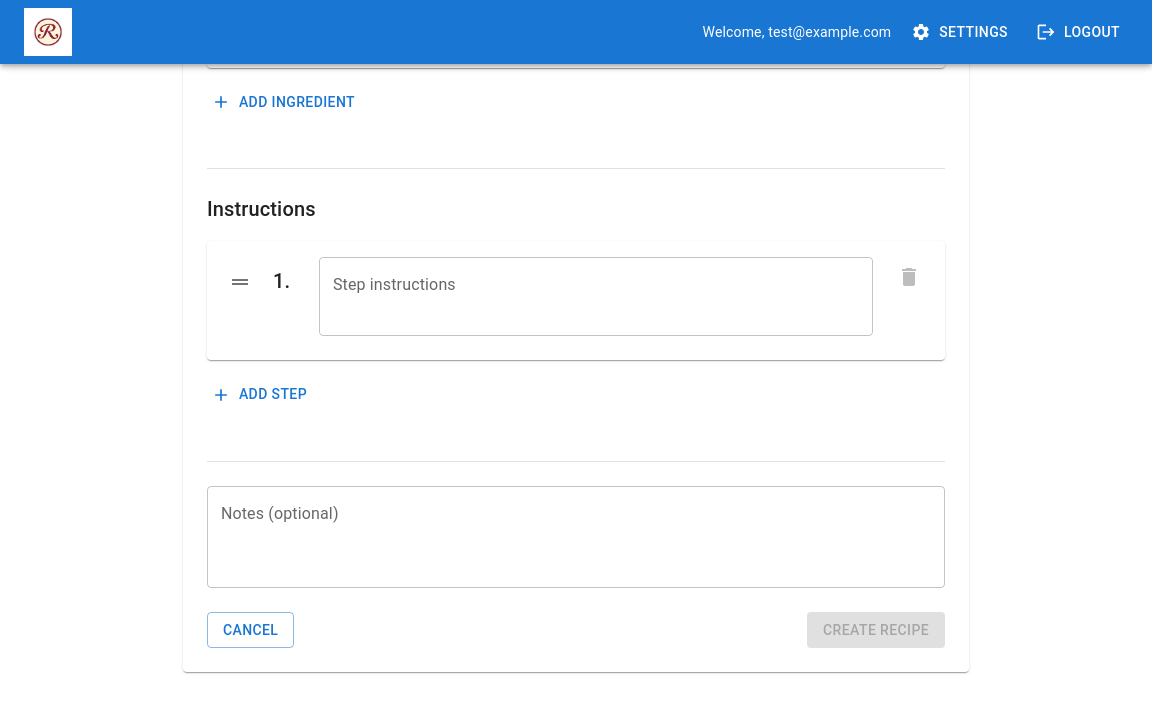
Test: RecipeEditPage › Drag and drop functionality › step numbers are sequential after adding steps
This screenshot has width=1152, height=720.
(page scrolled)
# Add 4 more steps
Click the button "Add Step". click: [261, 395]
box: [207,376,315,413]
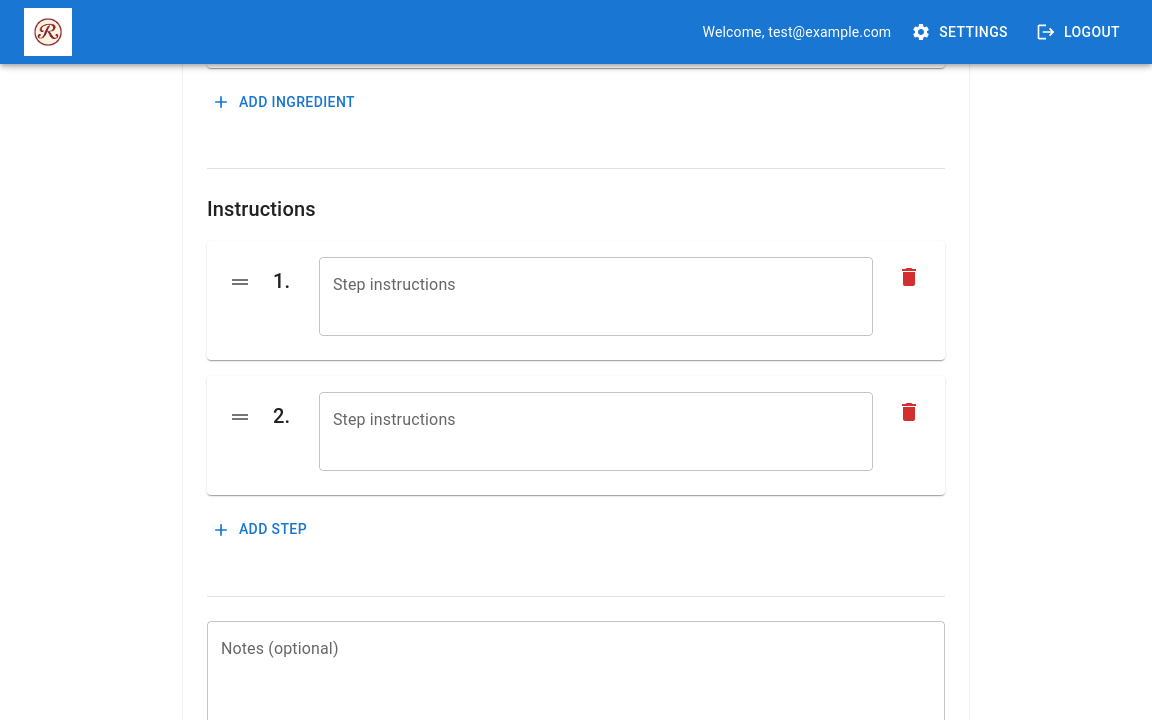
Click the button "Add Step". click: [261, 530]
box: [207,511,315,548]
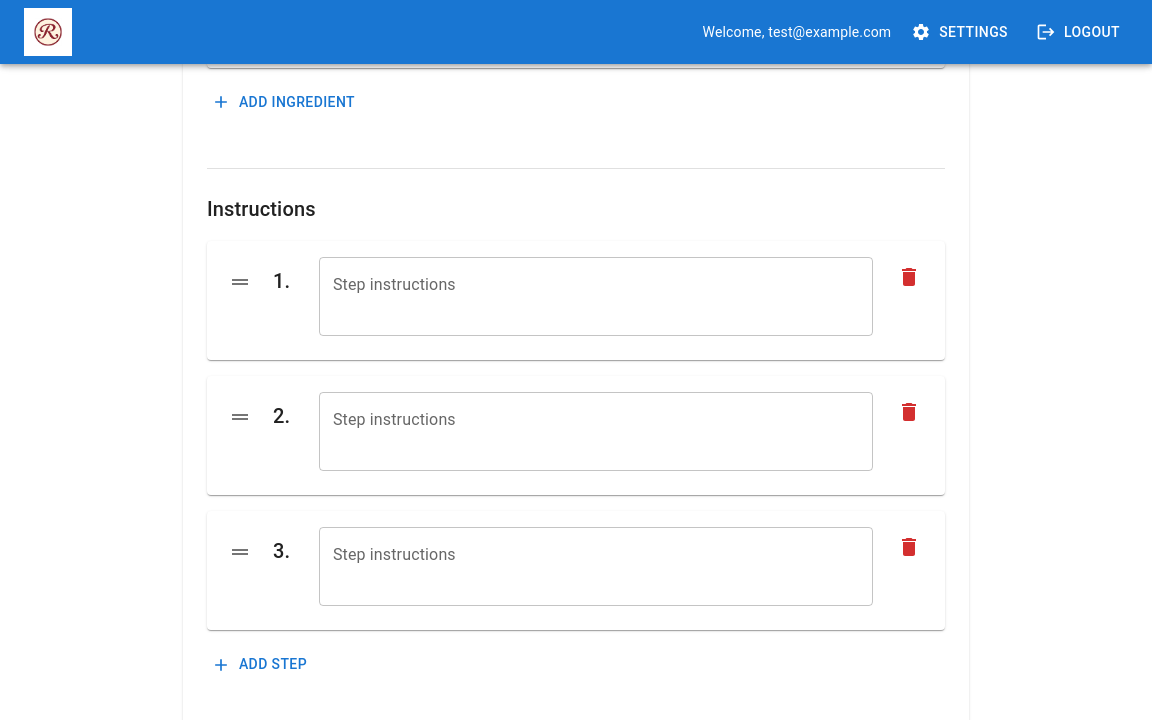
Click the button "Add Step". click: [261, 665]
box: [207,646,315,683]
(page scrolled)
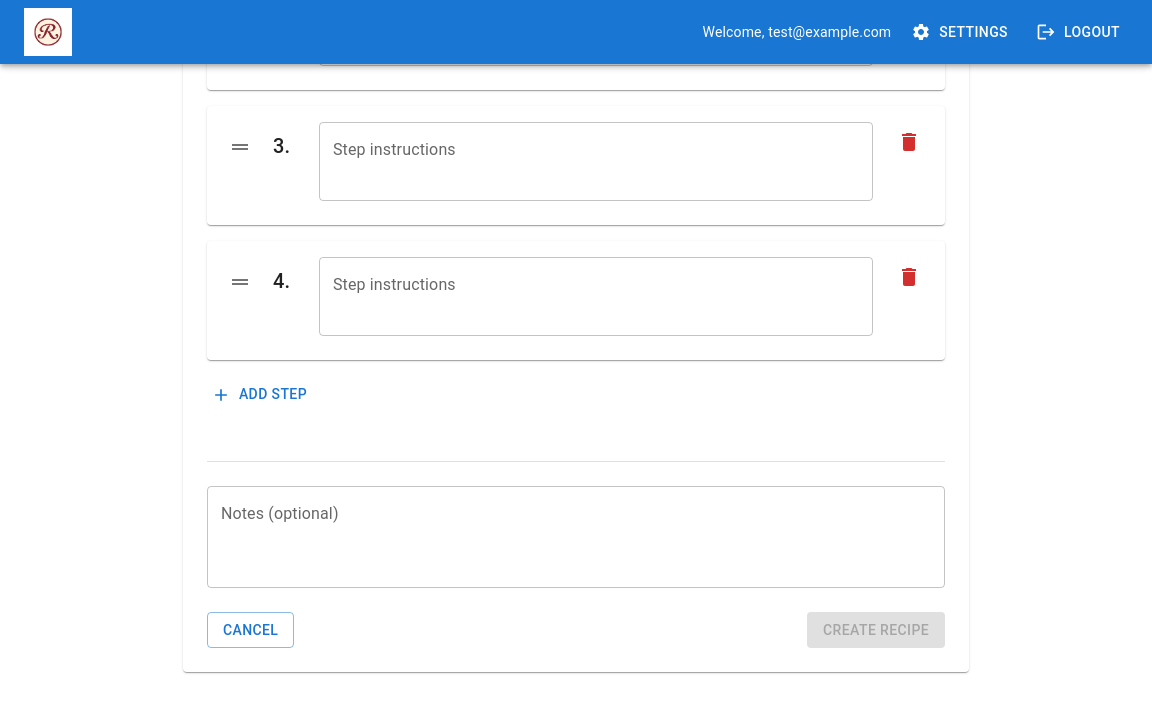
Click the button "Add Step". click: [261, 395]
box: [207,376,315,413]
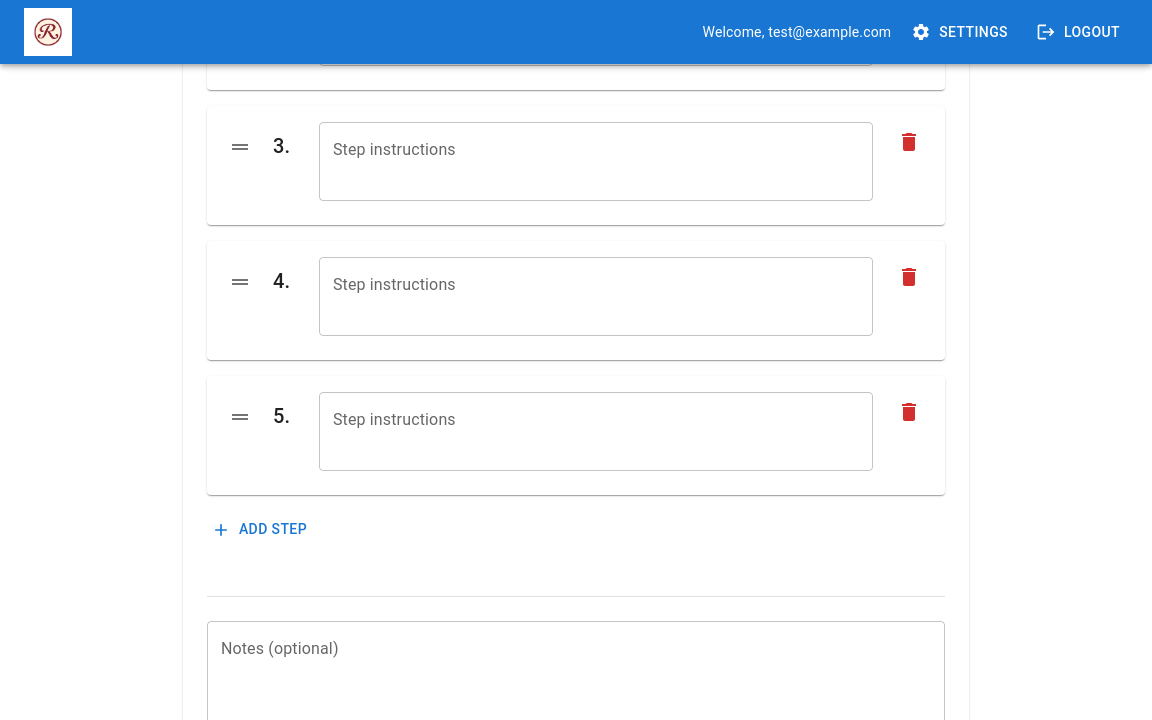
Expected: the heading "3." is shown, [273,134,290,158]
Expected: the heading "4." is shown, [273,269,290,293]
Expected: the heading "5." is shown, [273,404,290,428]
